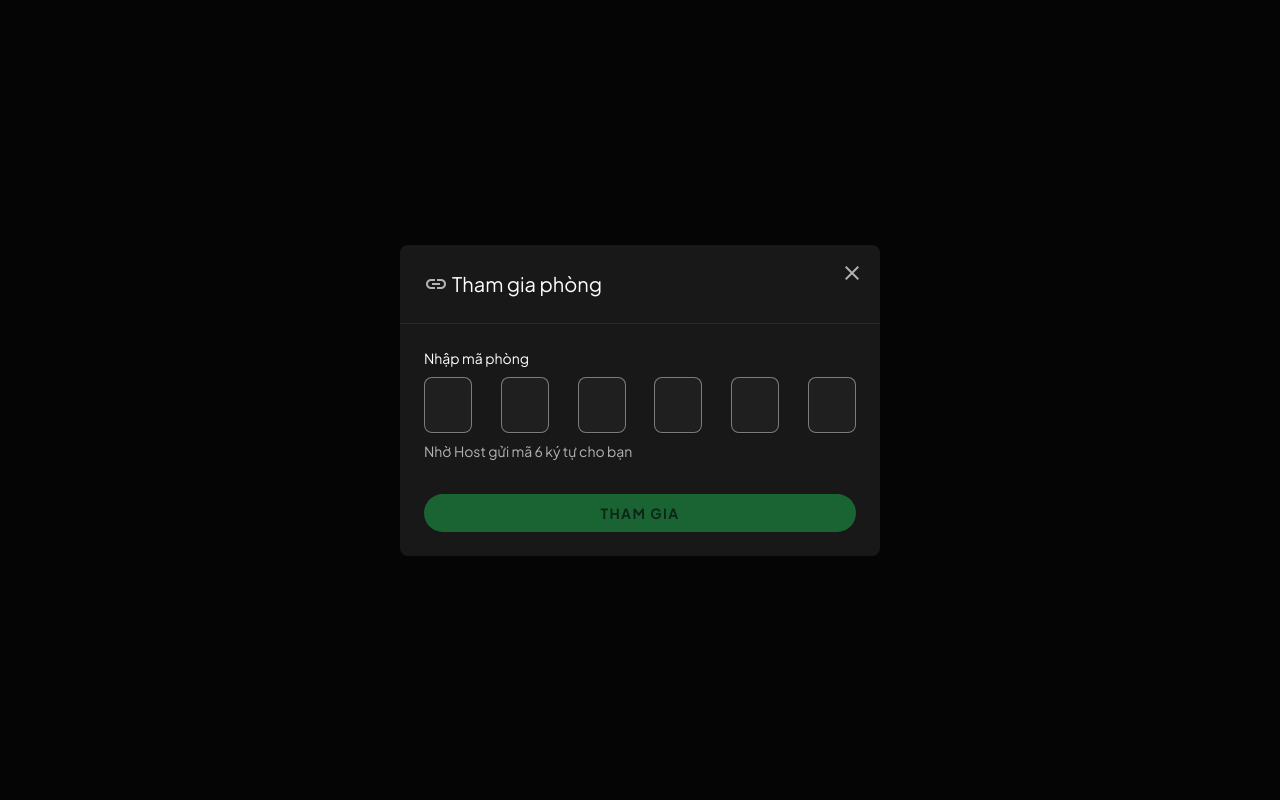
Test: JoinRoomModal › Submit › shows error when API returns 404
This screenshot has width=1280, height=800.
Type "X" into the field named "Ký tự 1" at (448, 404), box [424,376,472,432]
Type "X" into the field named "Ký tự 2" at (525, 404), box [501,376,549,432]
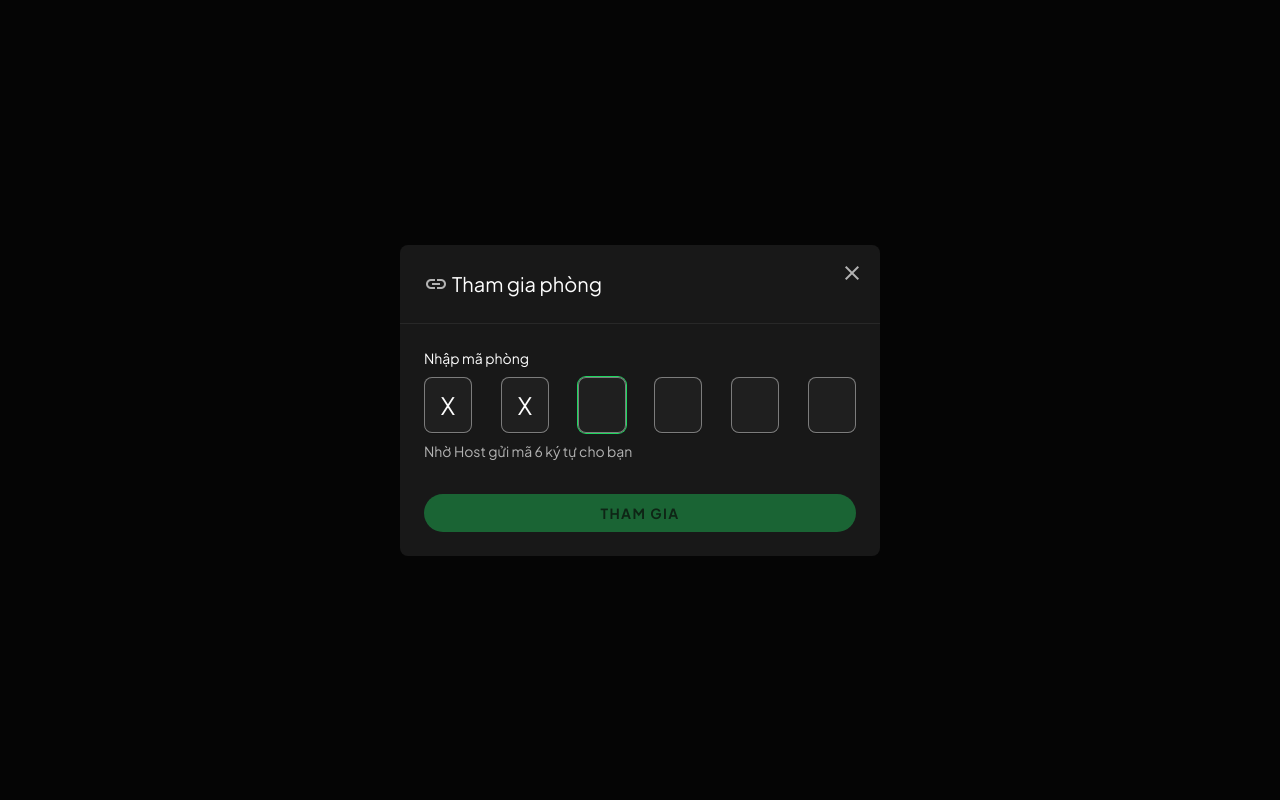
Type "X" into the field named "Ký tự 3" at (602, 404), box [578,376,626,432]
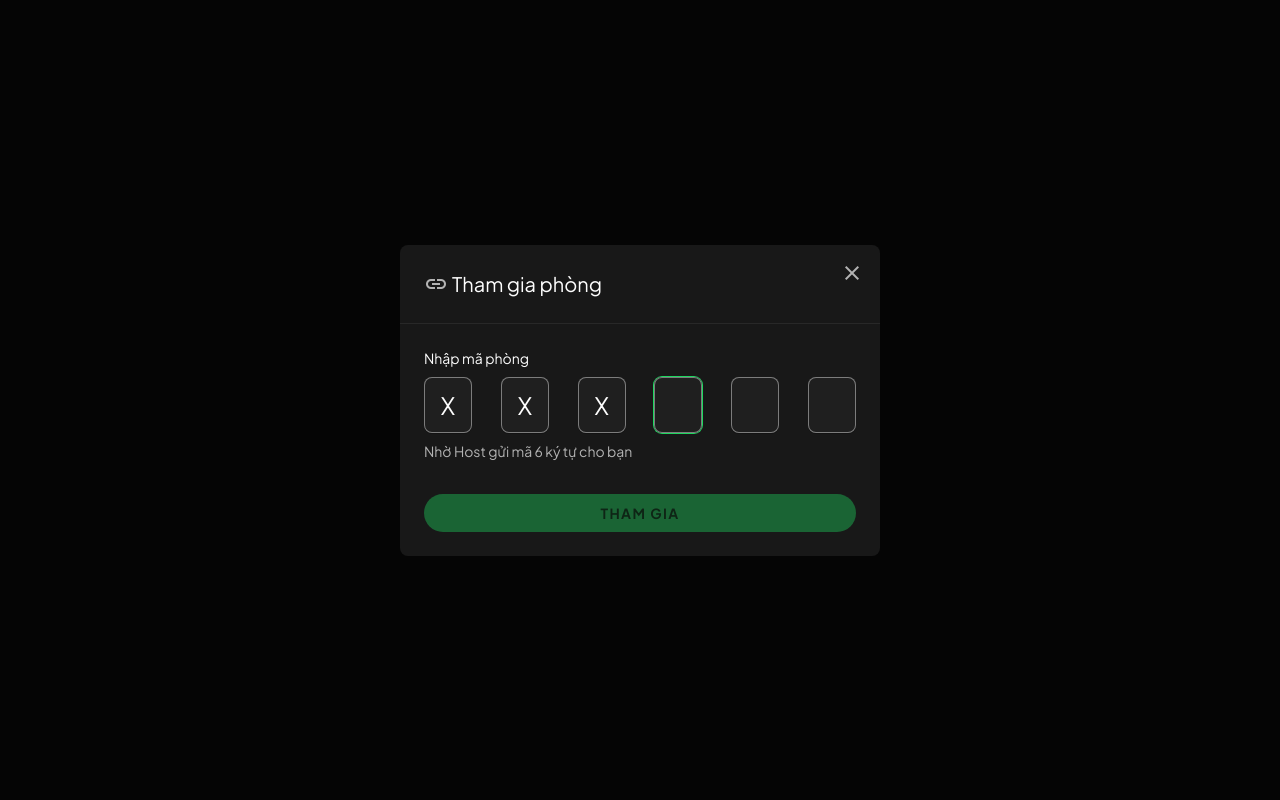
Type "X" into the field named "Ký tự 4" at (678, 404), box [654,376,702,432]
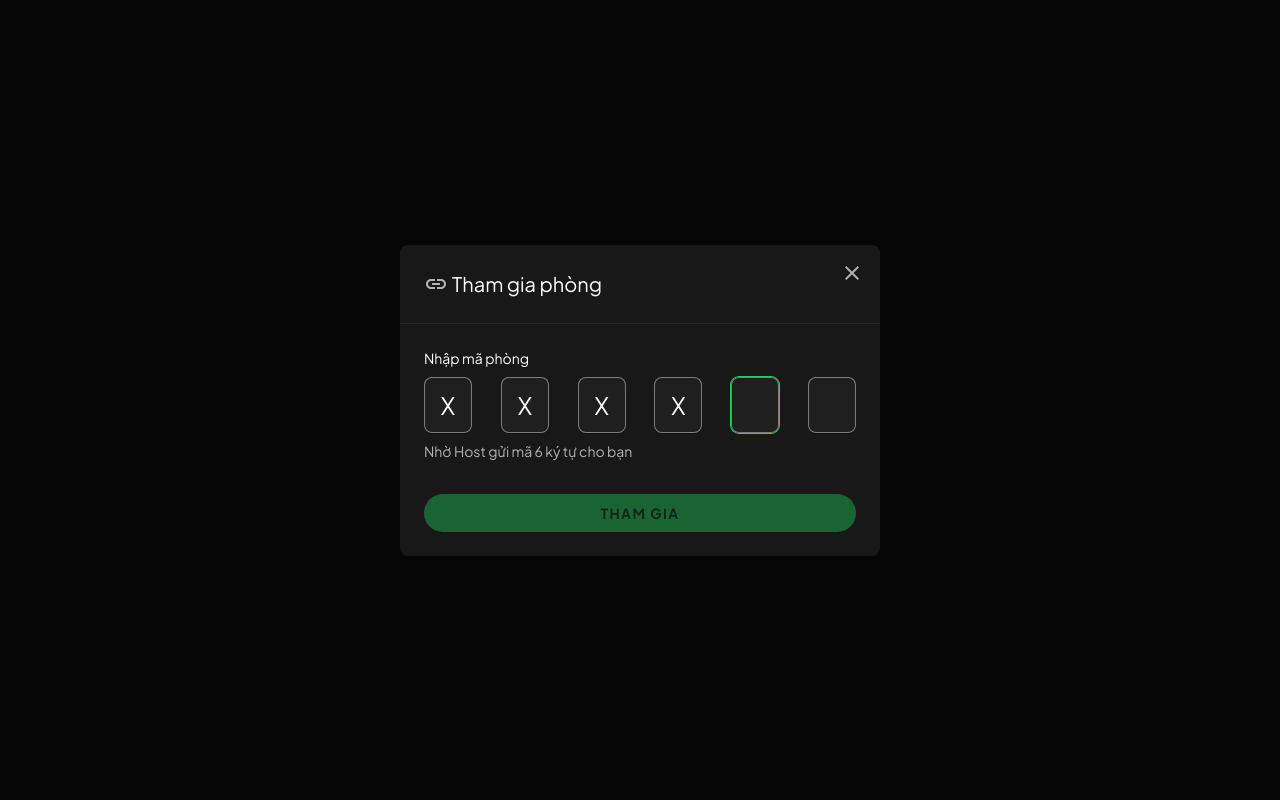
Type "X" into the field named "Ký tự 5" at (755, 404), box [731,376,779,432]
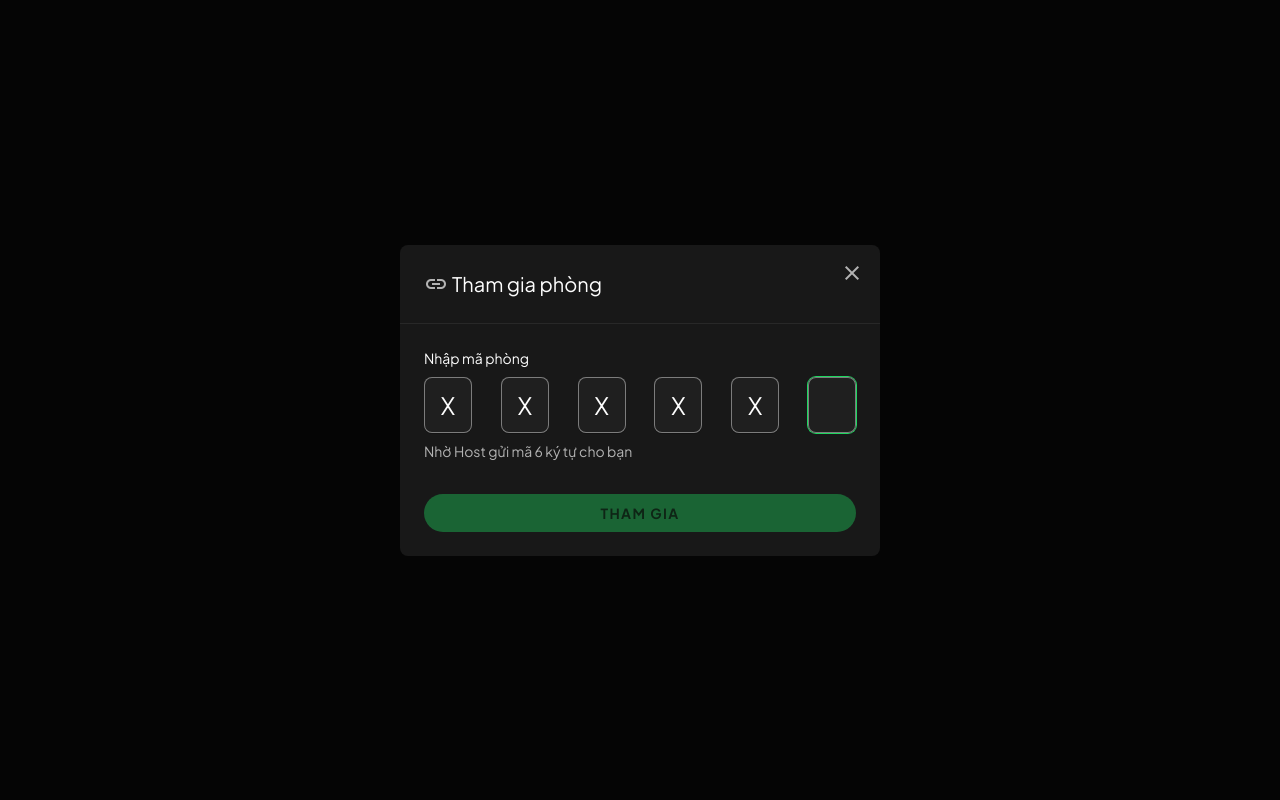
Type "X" into the field named "Ký tự 6" at (832, 404), box [808,376,856,432]
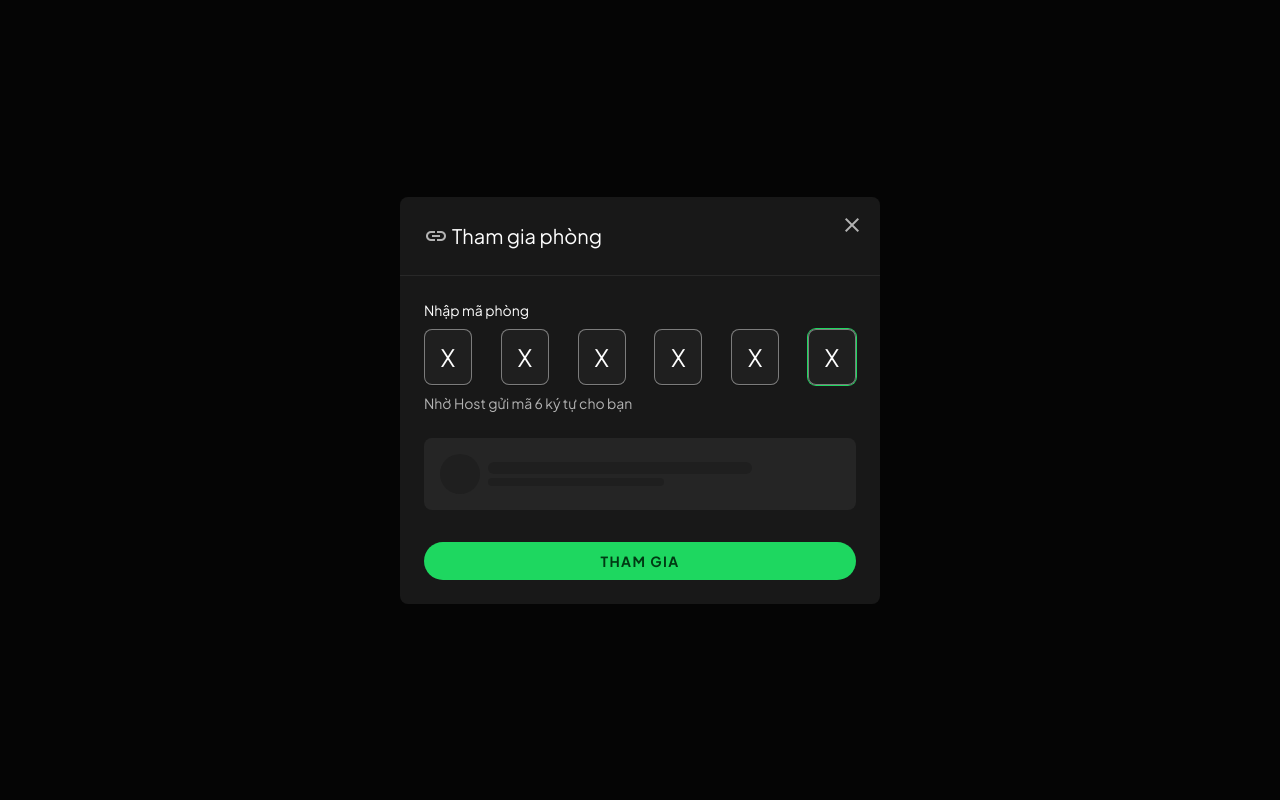
Click the button "THAM GIA" at (640, 560), box [424,542,856,580]
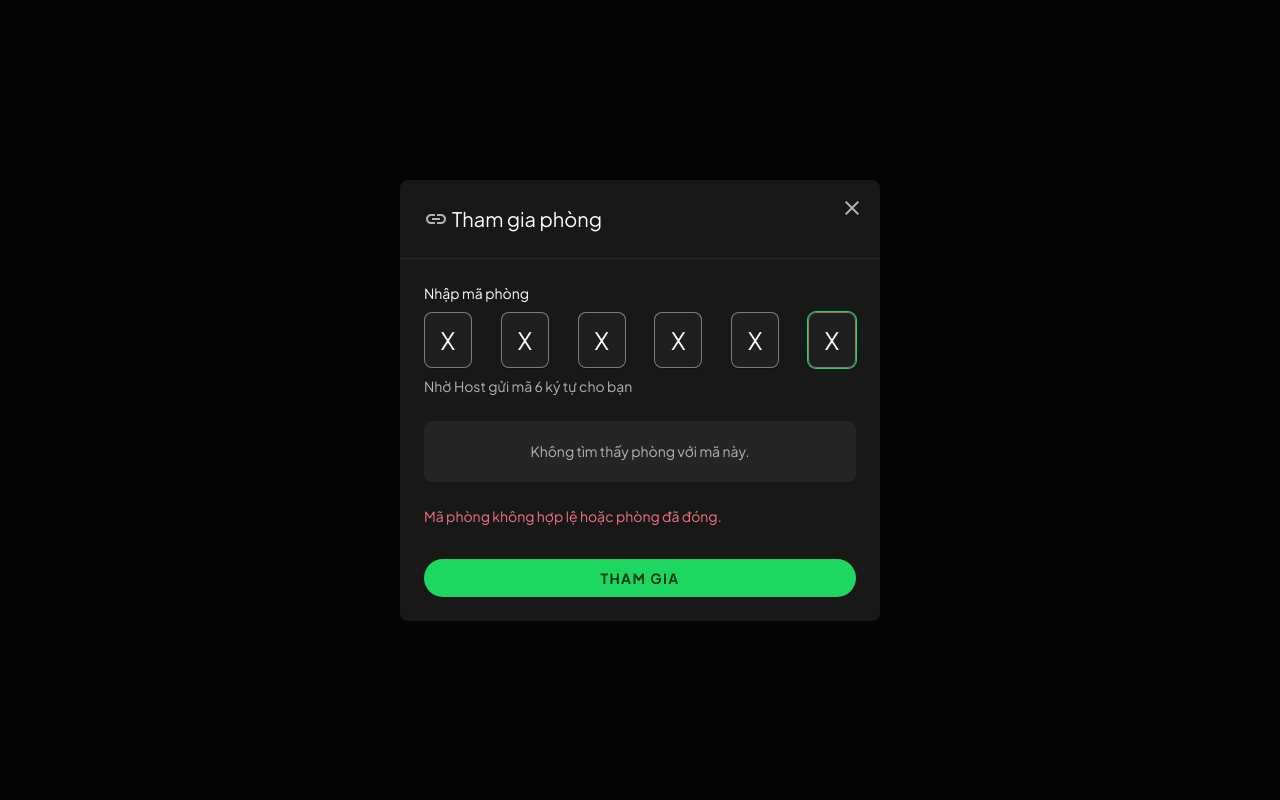
Check: the message shows "Mã phòng không hợp lệ", box [424,506,722,524]
